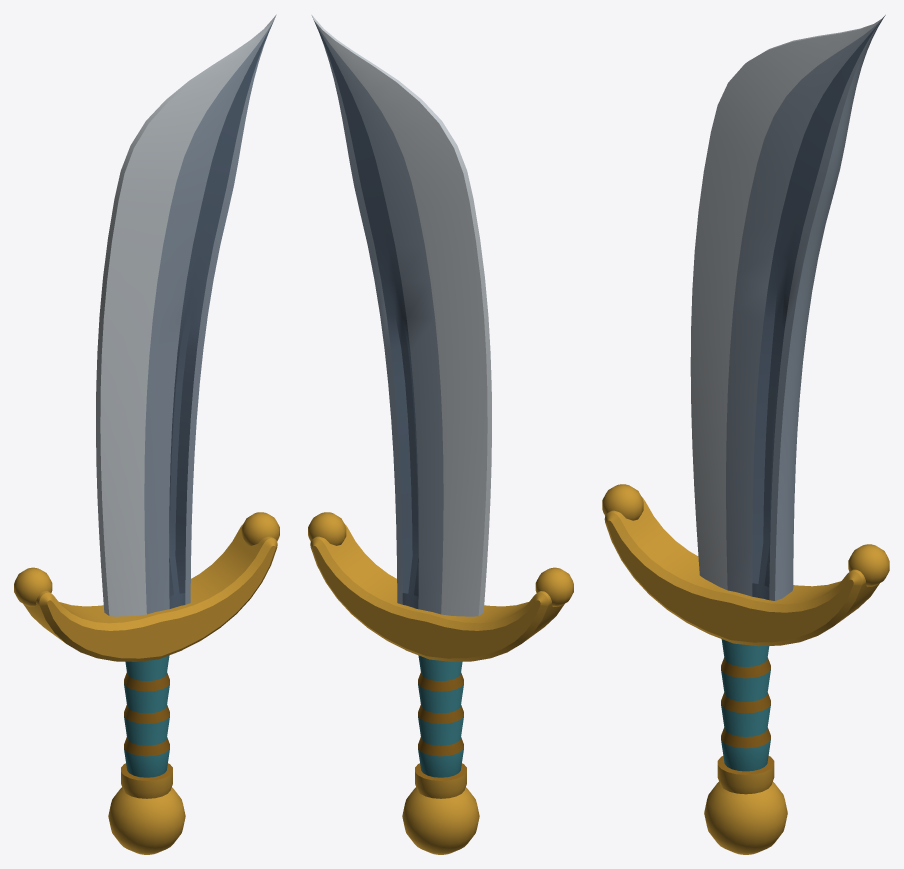
The model's file is Scimitar_18.glb.
3 renders of one model, left to right at view 1: azimuth 30°, elevation 25°; view 2: azimuth 150°, elevation 25°; view 3: azimuth 330°, elevation 25°, orthographic. The views are drawn at different scales.
Parts seen in each view (by area): view 1: Scimitar_18; view 2: Scimitar_18; view 3: Scimitar_18.
Boxes of the visible parts, x1=… form: Scimitar_18: x1=14, y1=14, x2=279, y2=854; Scimitar_18: x1=308, y1=14, x2=573, y2=854; Scimitar_18: x1=602, y1=15, x2=889, y2=854.
Size of the model in its own units: 2.29 by 6.77 by 0.59.
